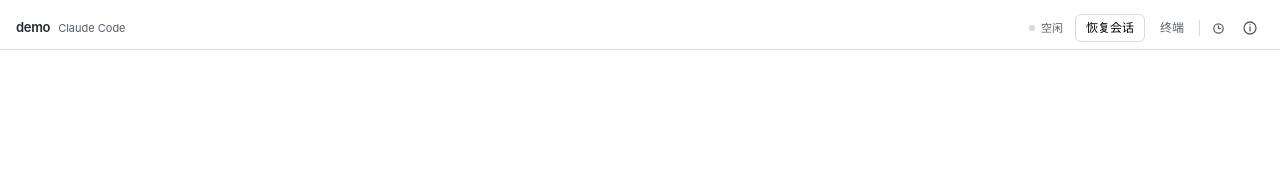
Test: renaming remains available without invoking session lifecycle actions
The image size is (1280, 172).
Click the button "demo" at point(33, 28), box [16,14,50,42]
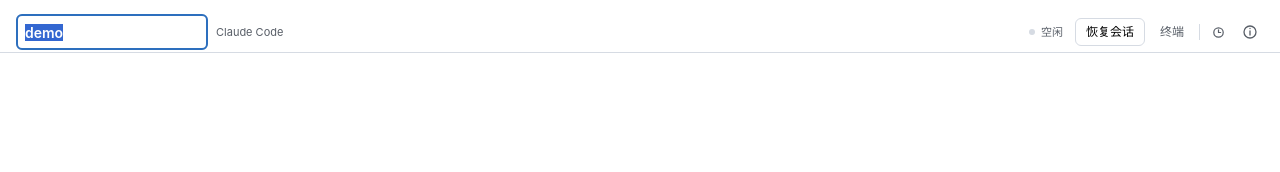
Replace the text in the field named "会话名称" with "Refine requirements" at point(112, 32), box [16,14,208,50]
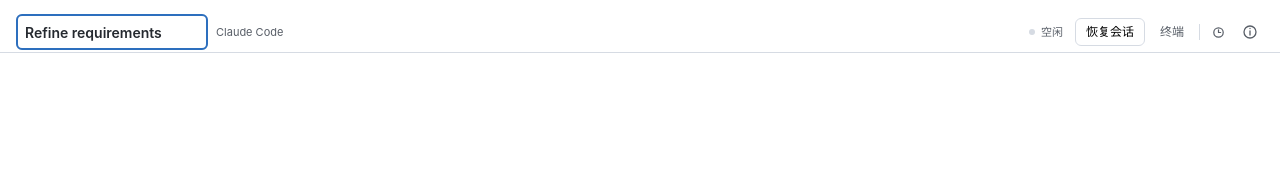
Press Enter in the field named "会话名称", box [16,14,208,50]
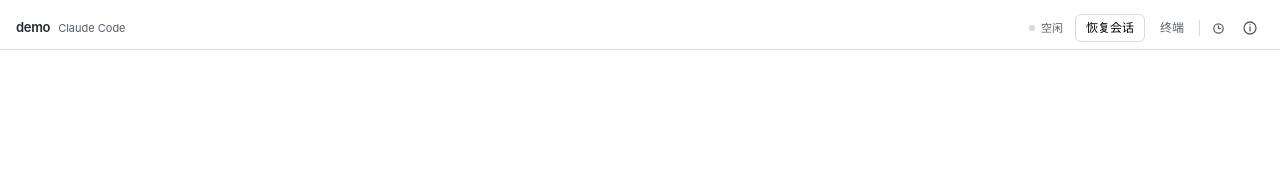
Now the field labelled "会话名称" is gone
